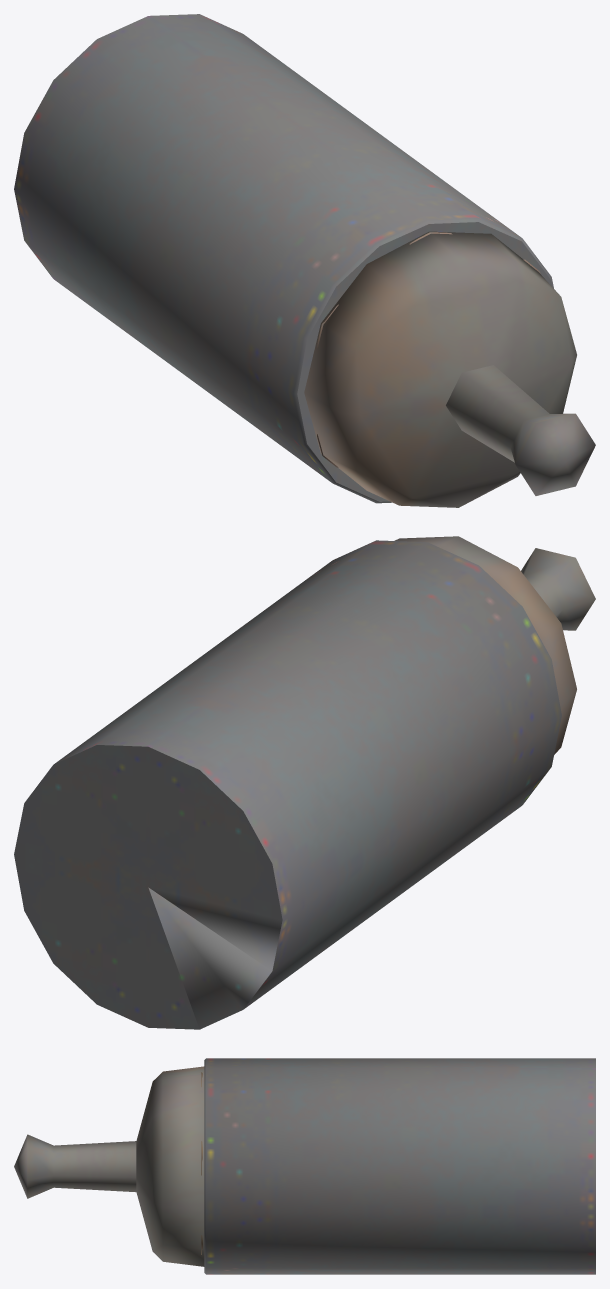
The model's file is mag1.obj.
3 renders of one model, top to bottom at view 1: azimuth 30°, elevation 25°; view 2: azimuth 150°, elevation 25°; view 3: azimuth 270°, elevation 25°, orthographic. The views are drawn at different scales.
Parts seen in each view (by area): view 1: mag1; view 2: mag1; view 3: mag1.
Boxes of the visible parts, box(x1,y1,x2,y2) form: mag1: box(14, 14, 595, 507); mag1: box(14, 536, 595, 1029); mag1: box(14, 1058, 595, 1274).
Size of the model in its own units: 6.6 by 6.6 by 17.76.
